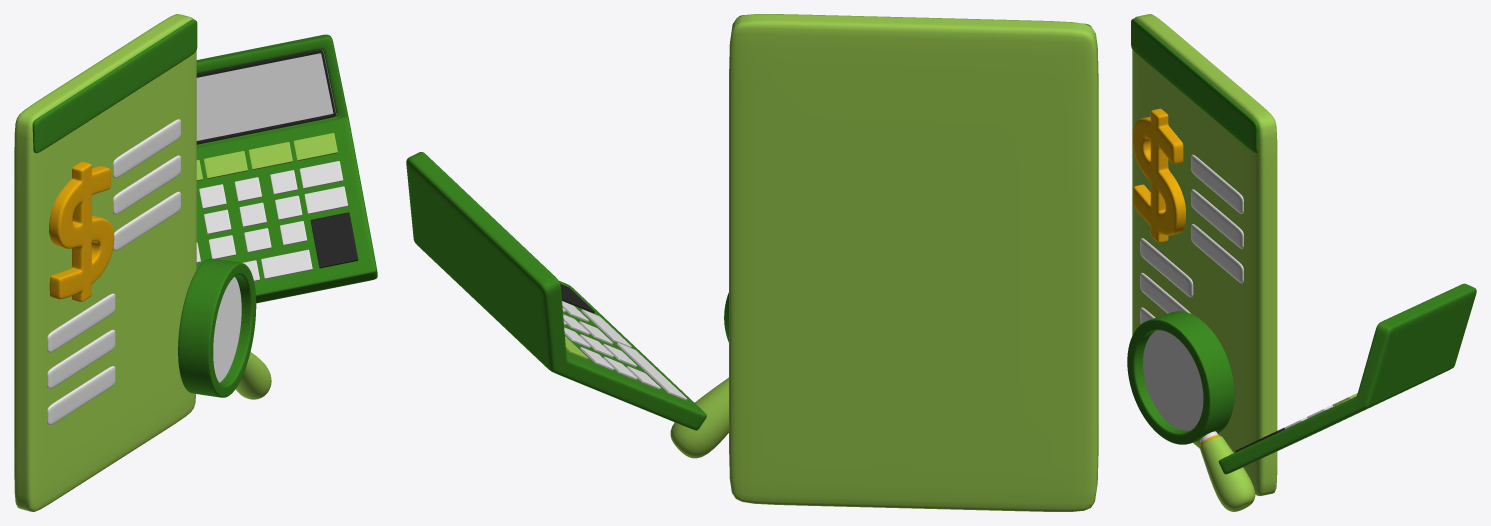
Rendered from calculator.glb.
3 renders of one model, left to right at view 1: azimuth 30°, elevation 25°; view 2: azimuth 150°, elevation 25°; view 3: azimuth 270°, elevation 25°, orthographic. The views are drawn at different scales.
Parts seen in each view (by area): view 1: Cube.010, Plane.045, Plane.047, Cylinder.012, Plane.049, Text.015, Cube.015, Cube.016, Cube.014, Plane.048, Cylinder.011, Plane.052 (+3 smaller); view 2: Cube.010, Plane.045, Cylinder.013, Plane.049; view 3: Cube.010, Plane.045, Cylinder.012, Text.015, Cube.015, Cylinder.011, Cube.014, Cylinder.013, Cube.016.
Boxes of the visible parts, left/top/right/bottom form: Cube.010: left=14, top=14, right=196, bottom=511; Plane.045: left=196, top=34, right=377, bottom=303; Plane.047: left=196, top=50, right=336, bottom=140; Cylinder.012: left=178, top=258, right=256, bottom=397; Plane.049: left=196, top=161, right=347, bottom=262; Text.015: left=49, top=161, right=114, bottom=301; Cube.015: left=32, top=19, right=197, bottom=153; Cube.016: left=47, top=293, right=115, bottom=425; Cube.014: left=113, top=119, right=180, bottom=250; Plane.048: left=196, top=133, right=337, bottom=181; Cylinder.011: left=213, top=277, right=241, bottom=382; Plane.052: left=310, top=212, right=358, bottom=268; Cube.010: left=729, top=14, right=1098, bottom=511; Plane.045: left=406, top=152, right=706, bottom=430; Cylinder.013: left=670, top=377, right=728, bottom=458; Plane.049: left=562, top=301, right=660, bottom=389; Cube.010: left=1132, top=14, right=1277, bottom=496; Plane.045: left=1218, top=283, right=1476, bottom=474; Cylinder.012: left=1127, top=311, right=1234, bottom=444; Text.015: left=1132, top=108, right=1185, bottom=242; Cube.015: left=1131, top=18, right=1259, bottom=153; Cylinder.011: left=1143, top=330, right=1203, bottom=430; Cube.014: left=1191, top=154, right=1243, bottom=283; Cylinder.013: left=1200, top=436, right=1255, bottom=511; Cube.016: left=1140, top=238, right=1193, bottom=323.
Size of the model in its own units: 1.82 by 1.54 by 1.28.
